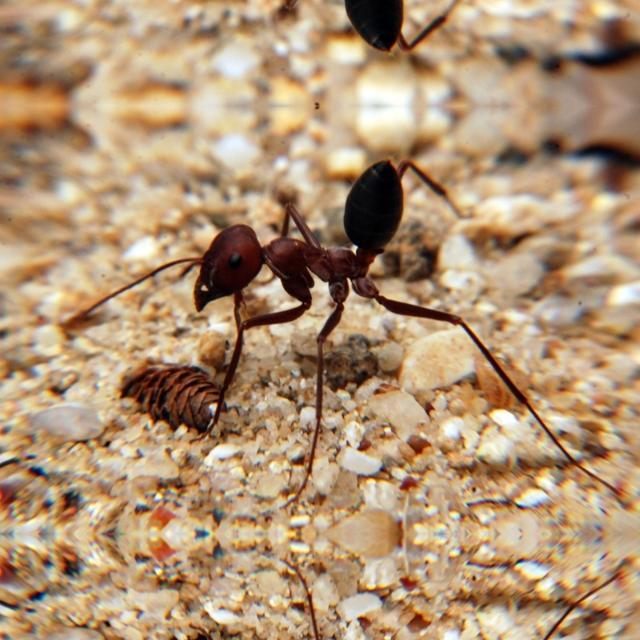Cataglyphis: (142, 148, 468, 346), (142, 0, 468, 60)
